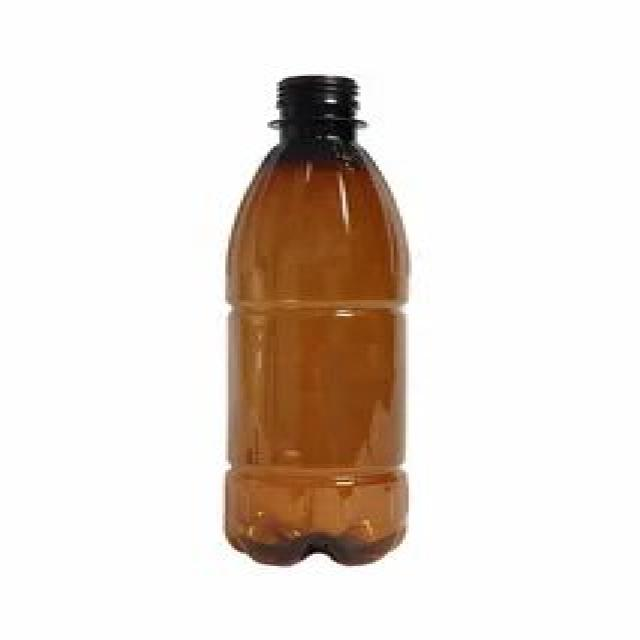brown: (223, 75, 411, 565)
